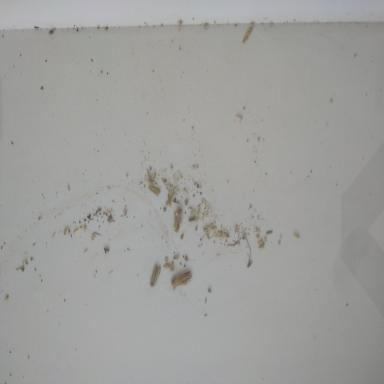pbw: (242, 21, 255, 43), (150, 262, 161, 287), (173, 209, 182, 232), (148, 184, 160, 197), (179, 271, 192, 282), (168, 192, 172, 208), (247, 258, 252, 268), (266, 230, 272, 234)
